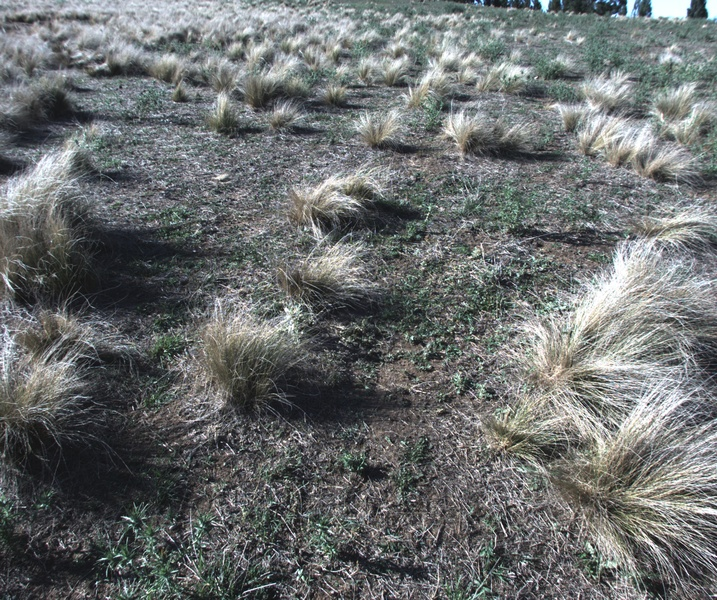st: (555, 421, 717, 578), (1, 331, 107, 464), (520, 296, 623, 411), (1, 164, 93, 288), (198, 328, 291, 434), (630, 218, 717, 329), (268, 250, 354, 323), (477, 410, 569, 475), (286, 185, 342, 237), (14, 88, 74, 129), (649, 83, 690, 136), (451, 109, 487, 163), (329, 169, 380, 207), (269, 96, 309, 140), (597, 131, 642, 164), (634, 147, 678, 179), (358, 113, 397, 149), (203, 92, 239, 131), (591, 75, 620, 121), (241, 75, 277, 112), (552, 102, 584, 143), (201, 65, 242, 96), (433, 45, 469, 78), (583, 115, 606, 163), (148, 53, 180, 81), (243, 44, 267, 76), (326, 79, 350, 109), (505, 123, 525, 157), (409, 86, 436, 109), (381, 64, 404, 89), (169, 79, 184, 102), (356, 62, 368, 88)
